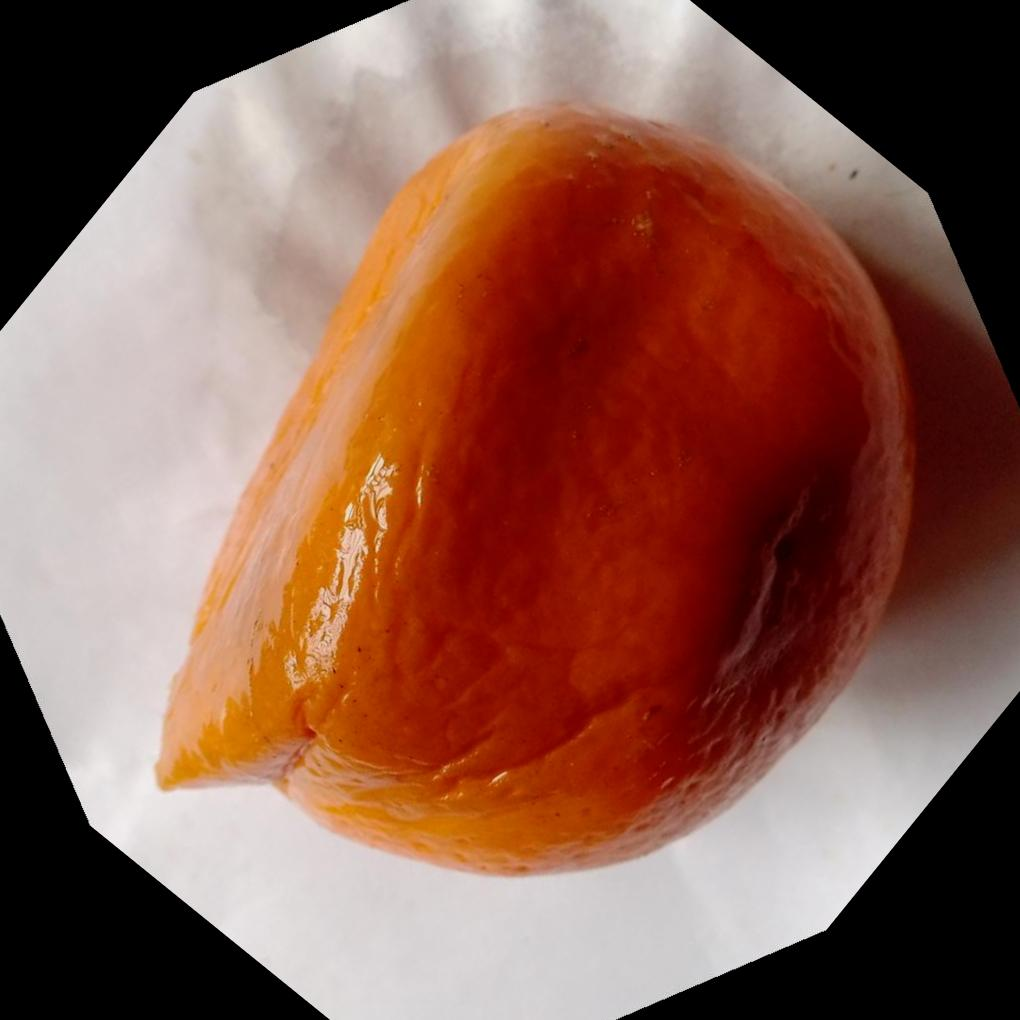FreshOrange: (153, 97, 922, 878)
